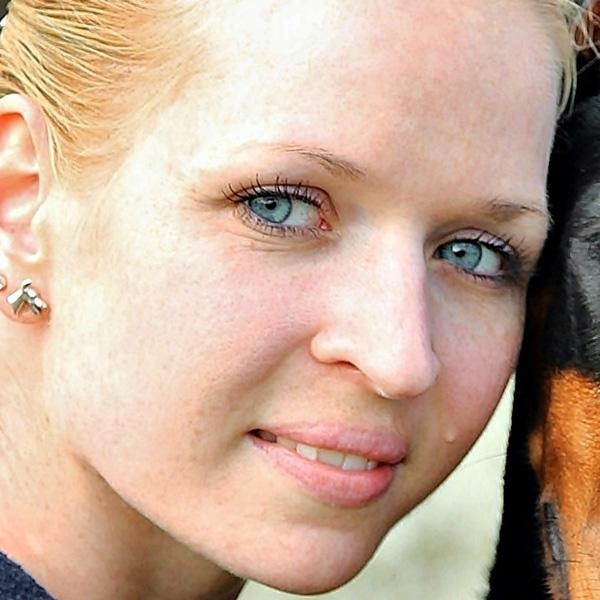Eyes: (216, 167, 352, 255), (422, 219, 524, 296)
